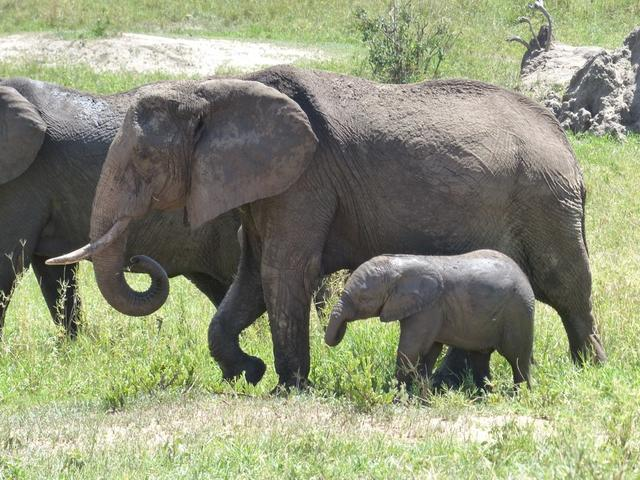elephant: (100, 48, 612, 422)
